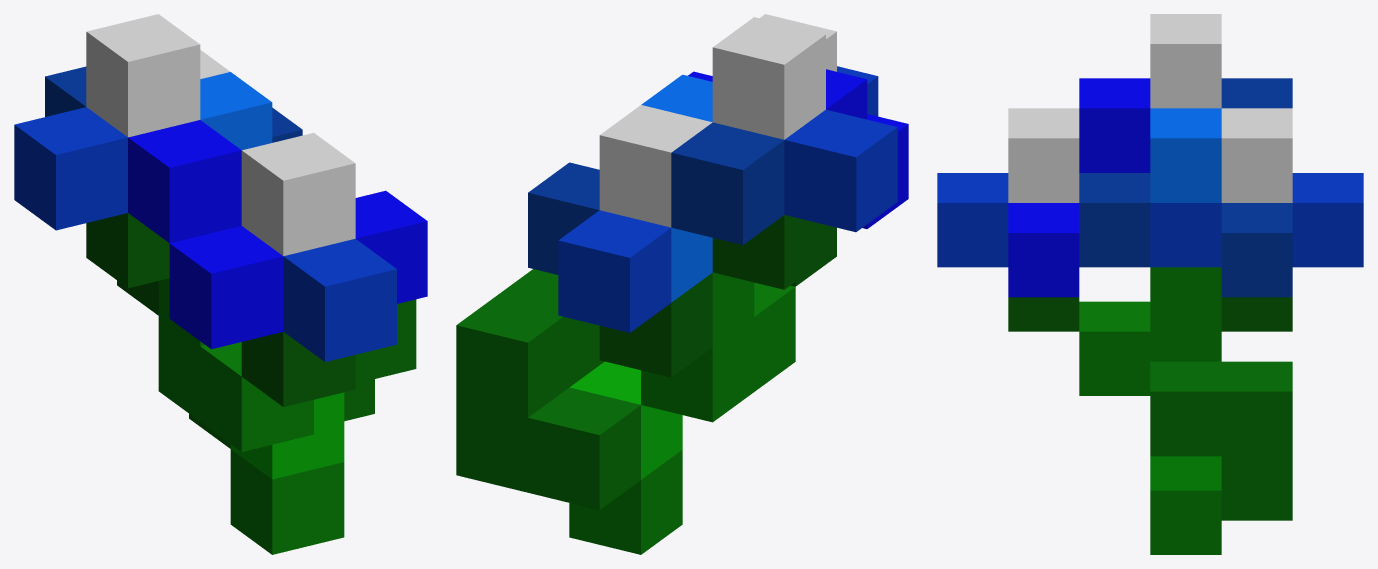
Rendered from flower-6.glb.
3 views of the same model, side by side, from view 1: azimuth 30°, elevation 25°; view 2: azimuth 150°, elevation 25°; view 3: azimuth 270°, elevation 25° (orthographic). The views are drawn at different scales.
Parts seen in each view (by area): view 1: Node1; view 2: Node1; view 3: Node1.
Part boxes in pixels (x1,y1,x2,y2): Node1: [14, 14, 427, 554]; Node1: [456, 14, 908, 554]; Node1: [937, 14, 1363, 554].
Bounding box in the file's own units: 0.5 × 0.7 × 0.6.
